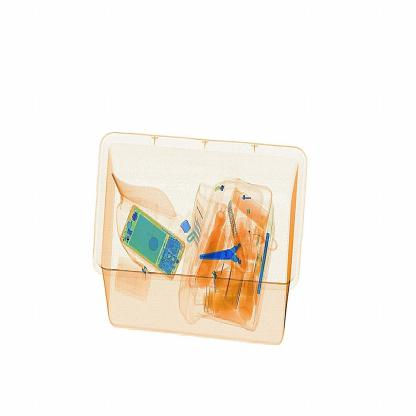gun: (192, 236, 253, 271)
